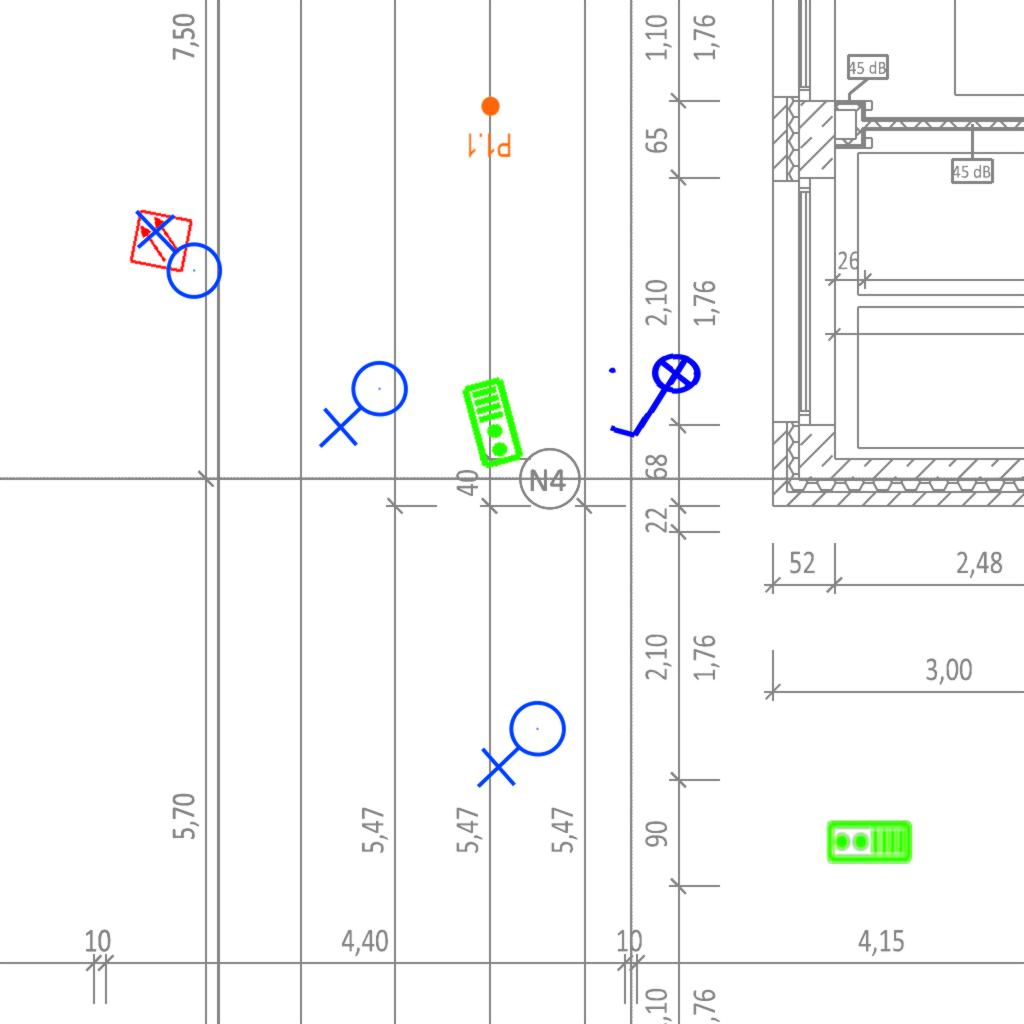Ausschalter_beleuchtet: (600, 349, 716, 449)
Downlight_LED_Einbauleuchten_Flur: (466, 95, 512, 159)
Elektroanschluss_allgemein_230V_Geraeteanschlussdose_230V: (476, 699, 575, 793), (318, 359, 417, 453), (130, 209, 224, 308)
Gegensprechanlage_mit_Video: (459, 374, 528, 472), (825, 819, 913, 866)
RMO_Rauchmelder_optischer: (128, 208, 194, 274)
